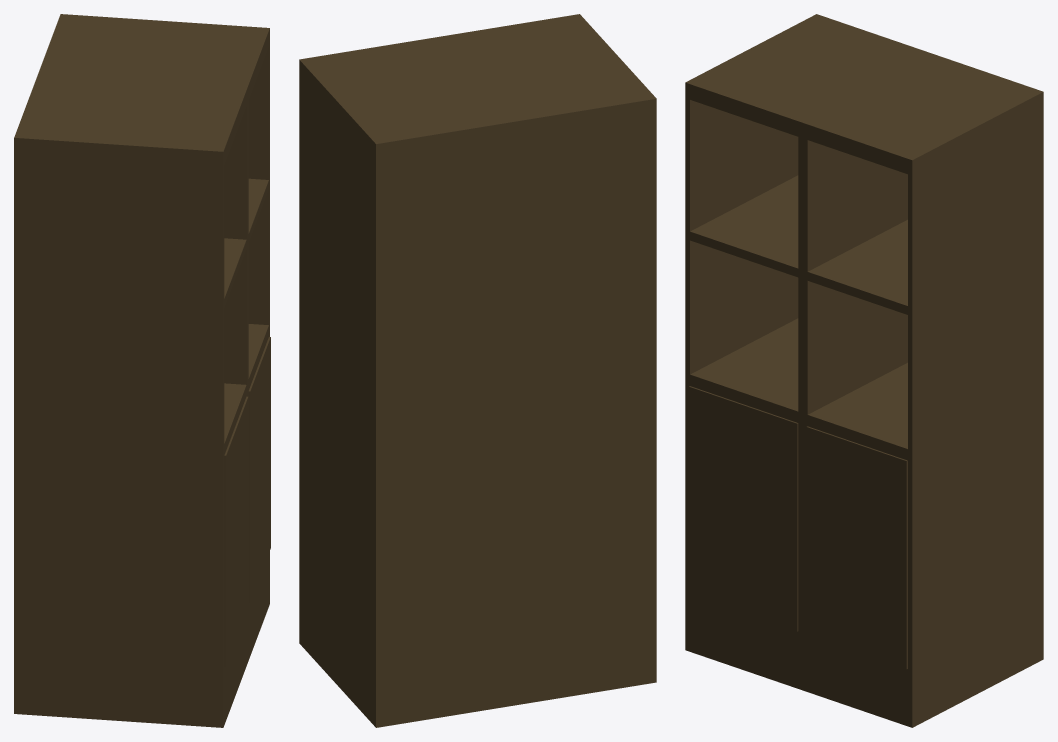
Rendered from Cabinet.fbx.
3 views of the same model, side by side, from view 1: azimuth 30°, elevation 25°; view 2: azimuth 150°, elevation 25°; view 3: azimuth 270°, elevation 25° (orthographic). The views are drawn at different scales.
Parts seen in each view (by area): view 1: pCube9; view 2: pCube9; view 3: pCube9.
Part boxes in pixels (x1=…): pCube9: x1=14, y1=14, x2=270, y2=727; pCube9: x1=299, y1=14, x2=656, y2=727; pCube9: x1=685, y1=14, x2=1043, y2=727.
Bounding box in the file's own units: 82.92 × 150 × 85.86.
